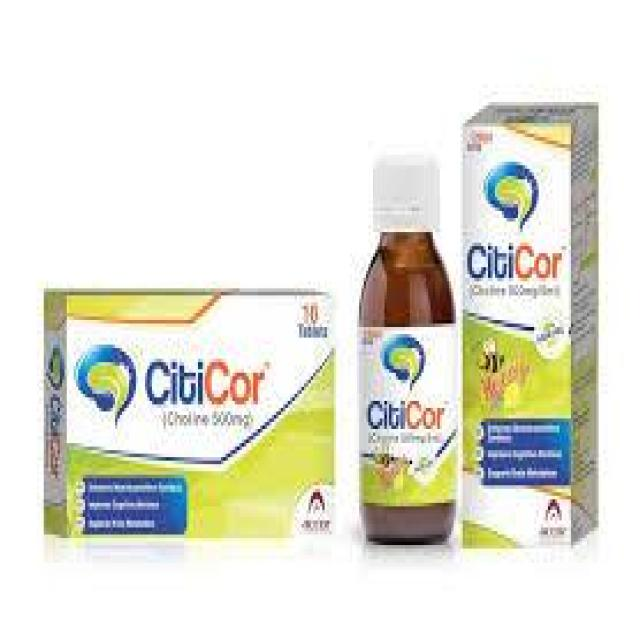B3: (346, 137, 476, 549)
